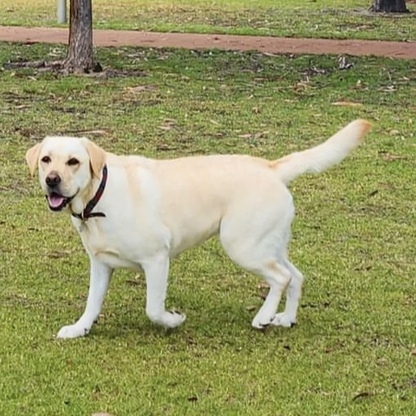labrado: (20, 115, 378, 349)
